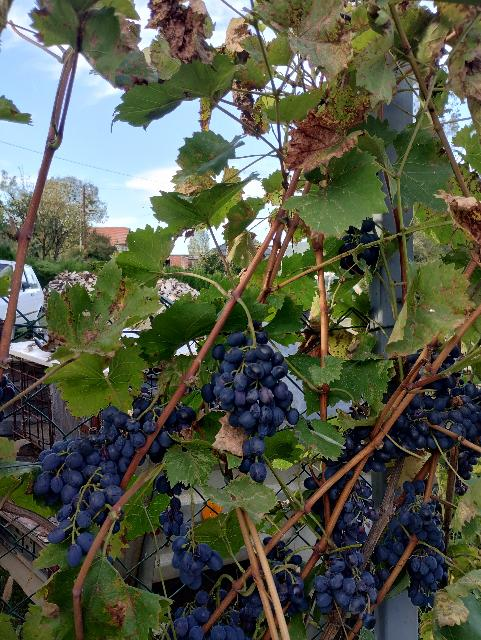grapes: (34, 396, 196, 568), (201, 330, 294, 482), (170, 591, 249, 640), (268, 541, 310, 615), (171, 535, 224, 589), (239, 590, 262, 635)
